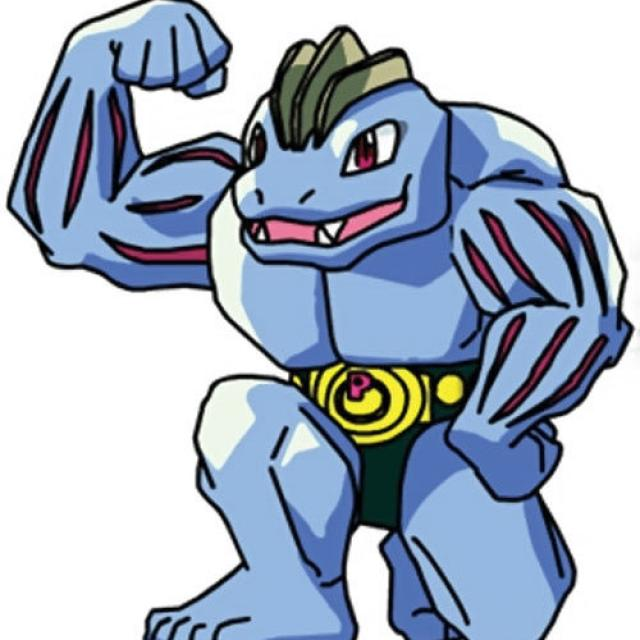Machoke: (197, 23, 585, 639)
